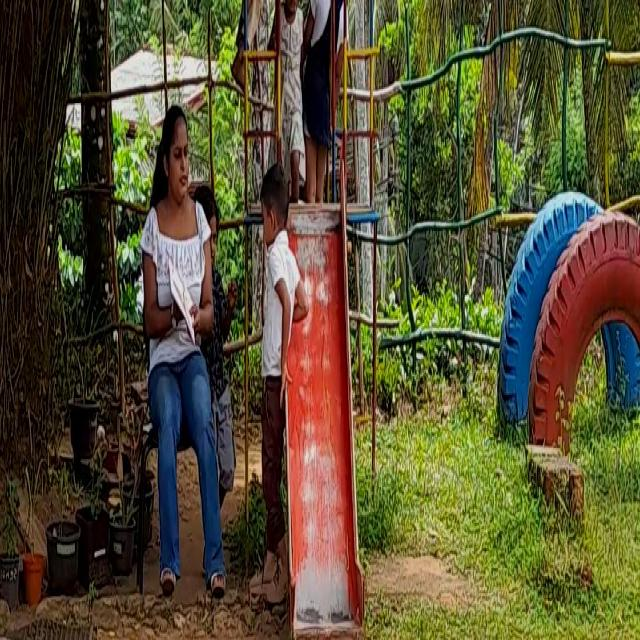adult: (149, 94, 219, 582)
child: (255, 179, 302, 592), (305, 0, 349, 204), (278, 0, 309, 167), (232, 0, 279, 86)
